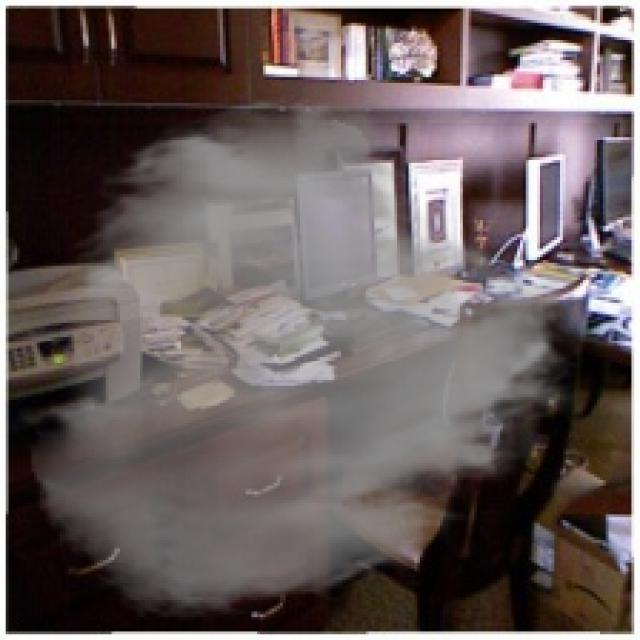smoke: (26, 94, 591, 623)
